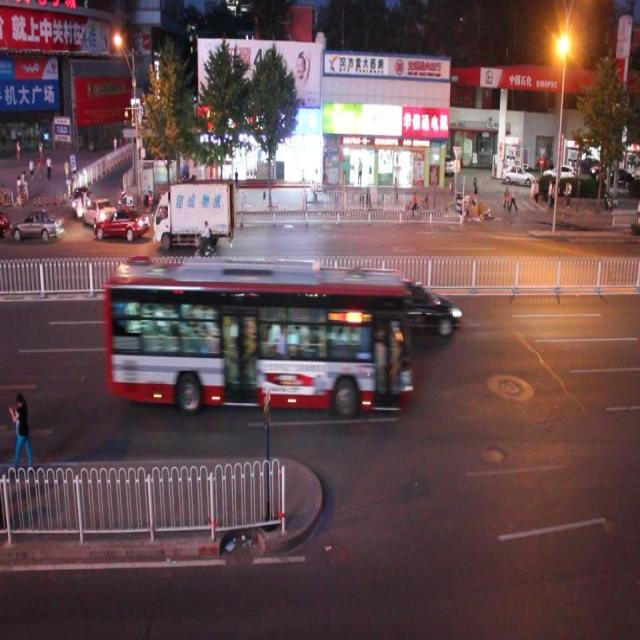bus: (154, 180, 235, 251)
car: (370, 278, 460, 335), (166, 185, 223, 232), (11, 202, 65, 241), (96, 206, 150, 243), (83, 195, 116, 228), (70, 184, 91, 209)
van: (104, 259, 405, 411)
